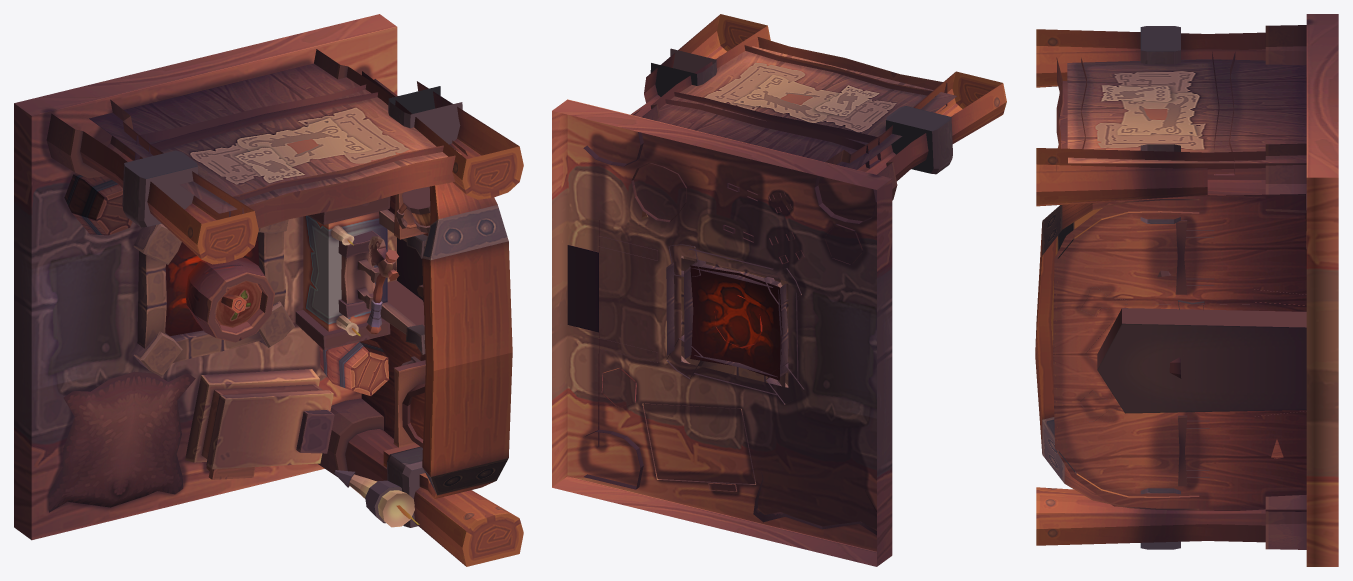
File: viking_room.obj
The picture shows the model from 3 angles, left to right: view 1: azimuth 30°, elevation 25°; view 2: azimuth 150°, elevation 25°; view 3: azimuth 270°, elevation 25°; orthographic projection. The views are drawn at different scales.
Visible parts, largest first — view 1: mesh_all1_Mesh; view 2: mesh_all1_Mesh; view 3: mesh_all1_Mesh.
Part boxes in pixels (x1=…): mesh_all1_Mesh: x1=14, y1=14, x2=523, y2=566; mesh_all1_Mesh: x1=552, y1=14, x2=1006, y2=566; mesh_all1_Mesh: x1=1035, y1=14, x2=1338, y2=566.
Bounding box in the file's own units: 1.55 × 1.71 × 1.21.
1 material, 1 textured.
